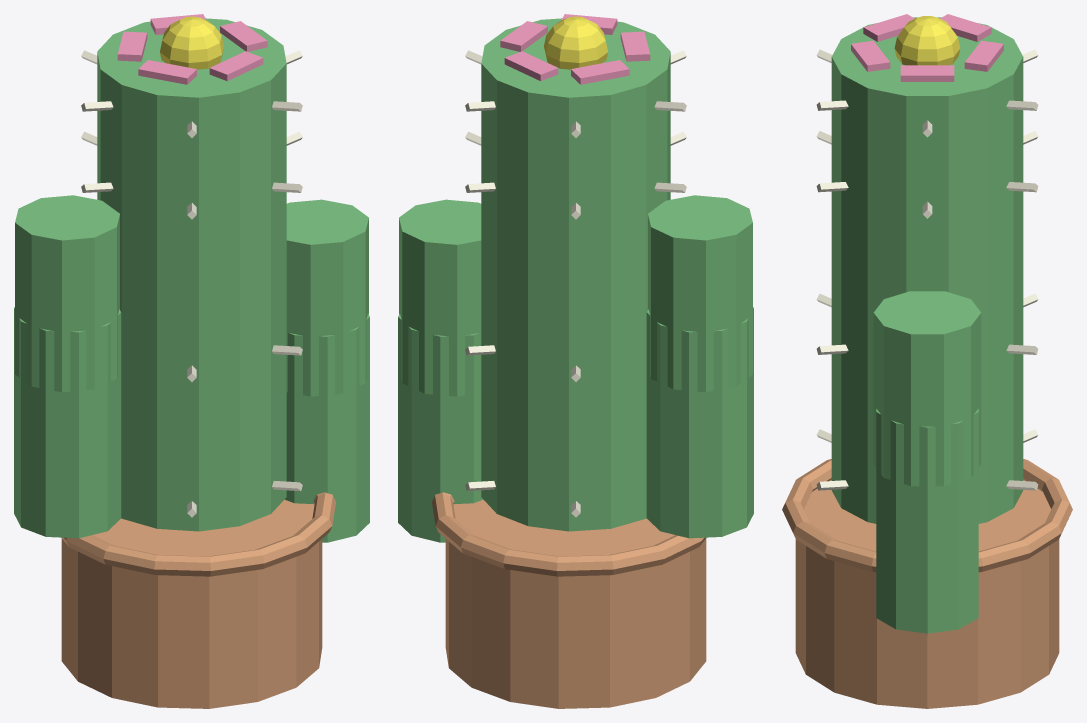
File: cactus.fbx
3 views of the same model, side by side, from view 1: azimuth 30°, elevation 25°; view 2: azimuth 150°, elevation 25°; view 3: azimuth 270°, elevation 25° (orthographic).
Visible parts, largest first — view 1: CA_Trunk, CA_Pot, CA_Arm, CA_ArmTop, CA_ArmTop.001, CA_Arm.001, CA_Rim, CA_FlowerCenter, CA_Pet3, CA_Pet4, CA_Pet0, CA_Pet2; view 2: CA_Trunk, CA_Pot, CA_Arm, CA_ArmTop, CA_ArmTop.001, CA_Arm.001, CA_Rim, CA_FlowerCenter, CA_Pet2, CA_Pet1, CA_Pet0, CA_Pet3; view 3: CA_Trunk, CA_Pot, CA_Arm.001, CA_ArmTop.001, CA_Rim, CA_FlowerCenter, CA_Pet0, CA_Pet1, CA_Pet4, CA_Pet2, CA_Pet3.
Boxes of the visible parts, x1,y1,x2,y2 form: CA_Trunk: (97, 18, 286, 531); CA_Pot: (61, 499, 322, 708); CA_Arm: (14, 307, 121, 538); CA_ArmTop: (15, 195, 119, 392); CA_ArmTop.001: (286, 199, 368, 396); CA_Arm.001: (285, 313, 369, 542); CA_Rim: (61, 492, 335, 576); CA_FlowerCenter: (160, 16, 223, 69); CA_Pet3: (138, 60, 196, 84); CA_Pet4: (209, 51, 263, 81); CA_Pet0: (220, 21, 267, 51); CA_Pet2: (117, 31, 147, 61); CA_Trunk: (481, 18, 670, 531); CA_Pot: (445, 499, 706, 708); CA_Arm: (646, 307, 753, 538); CA_ArmTop: (648, 195, 752, 392); CA_ArmTop.001: (399, 199, 481, 396); CA_Arm.001: (398, 313, 482, 542); CA_Rim: (432, 492, 706, 576); CA_FlowerCenter: (544, 16, 607, 69); CA_Pet2: (571, 60, 629, 84); CA_Pet1: (504, 51, 558, 81); CA_Pet0: (500, 21, 547, 51); CA_Pet3: (620, 31, 650, 61); CA_Trunk: (831, 17, 1023, 523); CA_Pot: (795, 480, 1059, 708); CA_Arm.001: (876, 409, 978, 633); CA_ArmTop.001: (873, 291, 981, 486); CA_Rim: (782, 459, 1072, 572); CA_FlowerCenter: (894, 16, 960, 65); CA_Pet0: (900, 65, 954, 81); CA_Pet1: (964, 40, 1003, 71); CA_Pet4: (851, 40, 890, 71); CA_Pet2: (940, 14, 991, 41); CA_Pet3: (863, 14, 914, 41).
Size of the model in its own units: 0.66 by 1.17 by 0.486.
